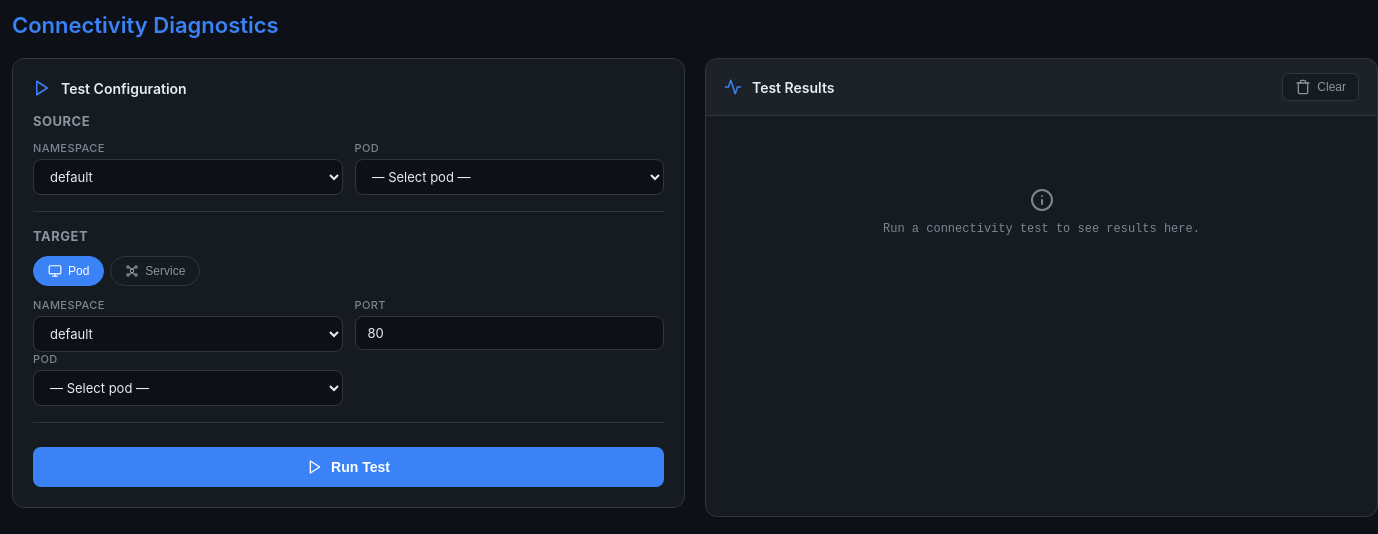
DiagnosticsPanel › shows validation error for invalid port
// Select source
Step 1. Select "production" in the 1st dropdown → (188, 177), box [33,159,342,195]
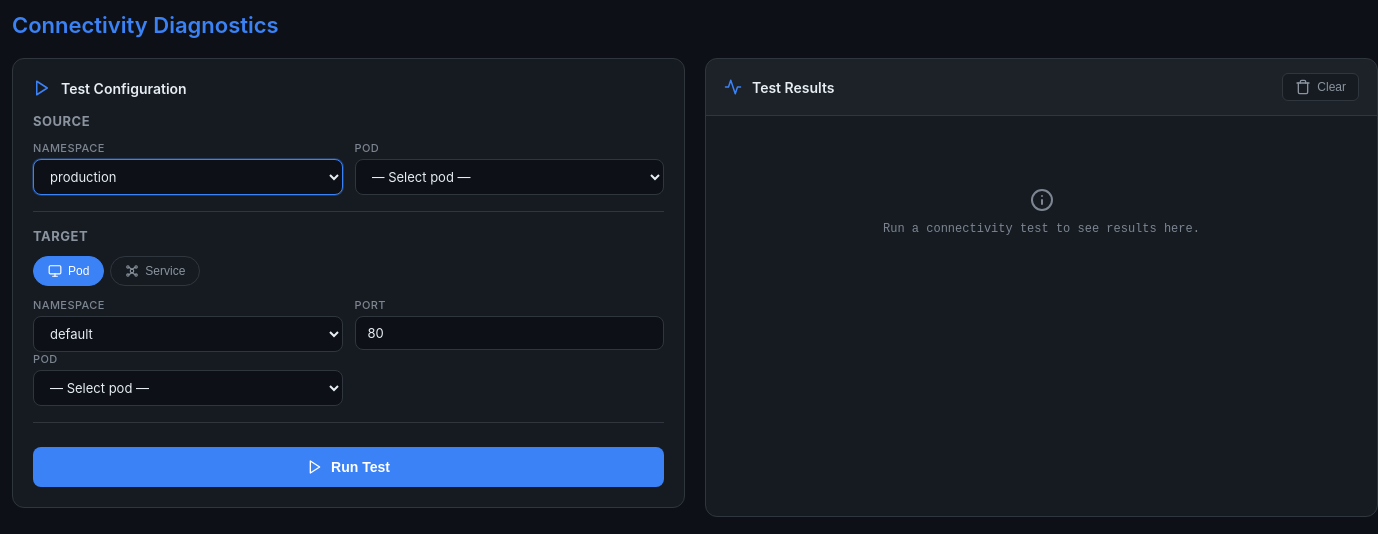
Step 2. Select "api-1" in the 2nd dropdown → (509, 177), box [354,159,664,195]
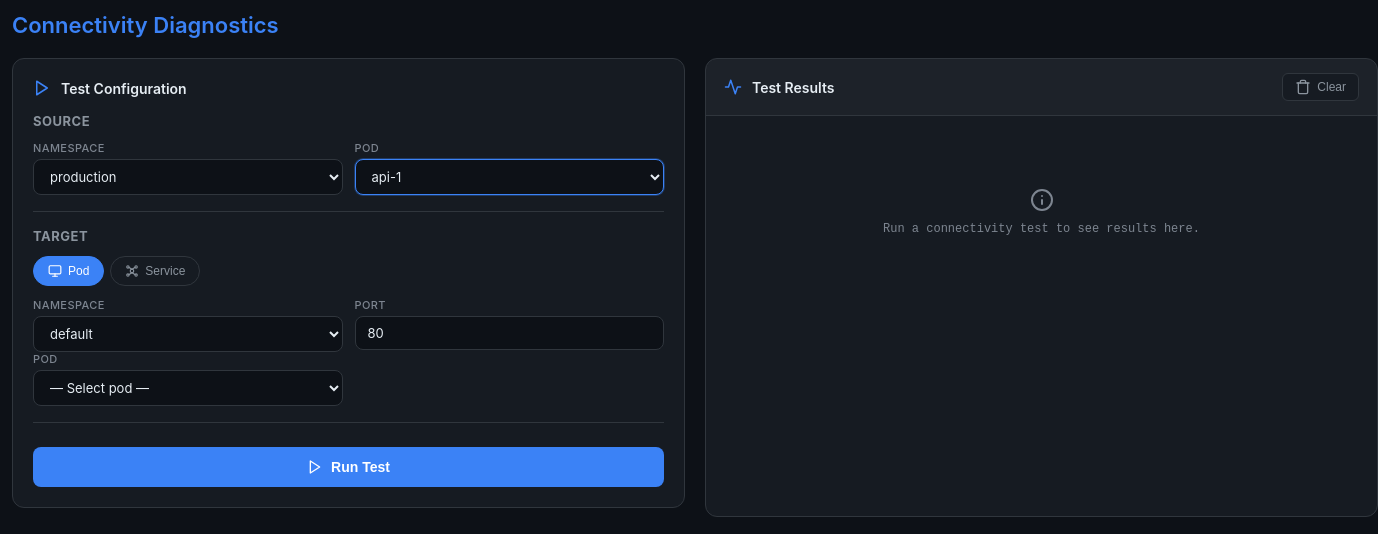
// Select target pod (needed so port validation is reached)
Step 3. Select "default" in the dropdown below "Port" → (188, 334), box [33,316,342,352]
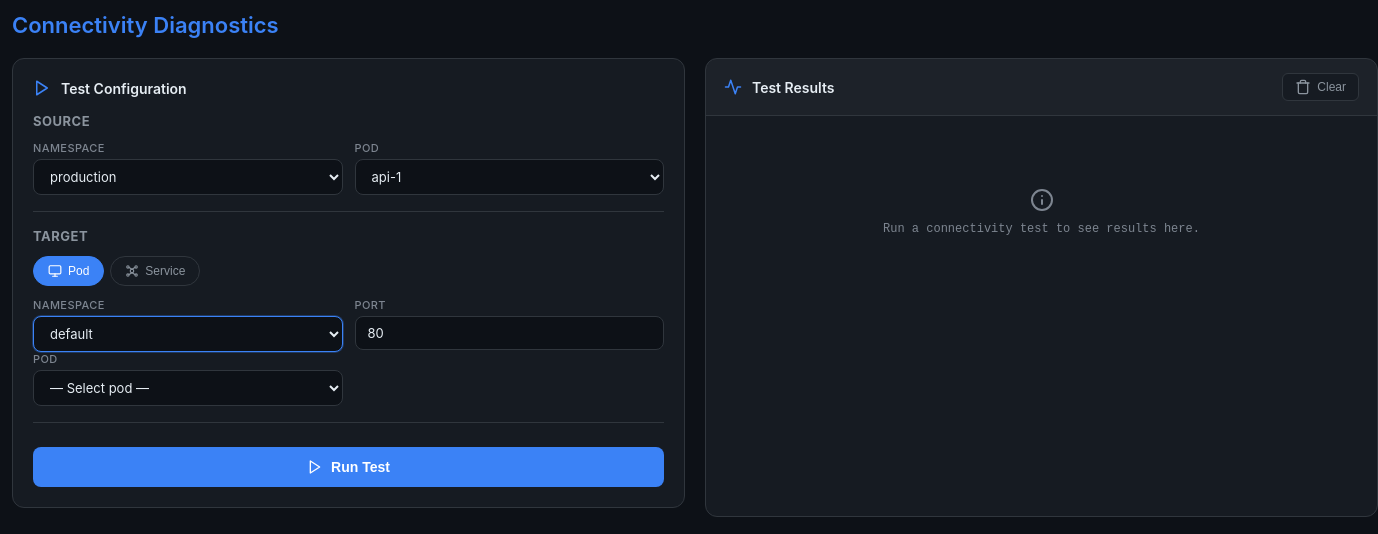
Step 4. Select "web-1" in the 4th dropdown → (188, 388), box [33,370,342,406]
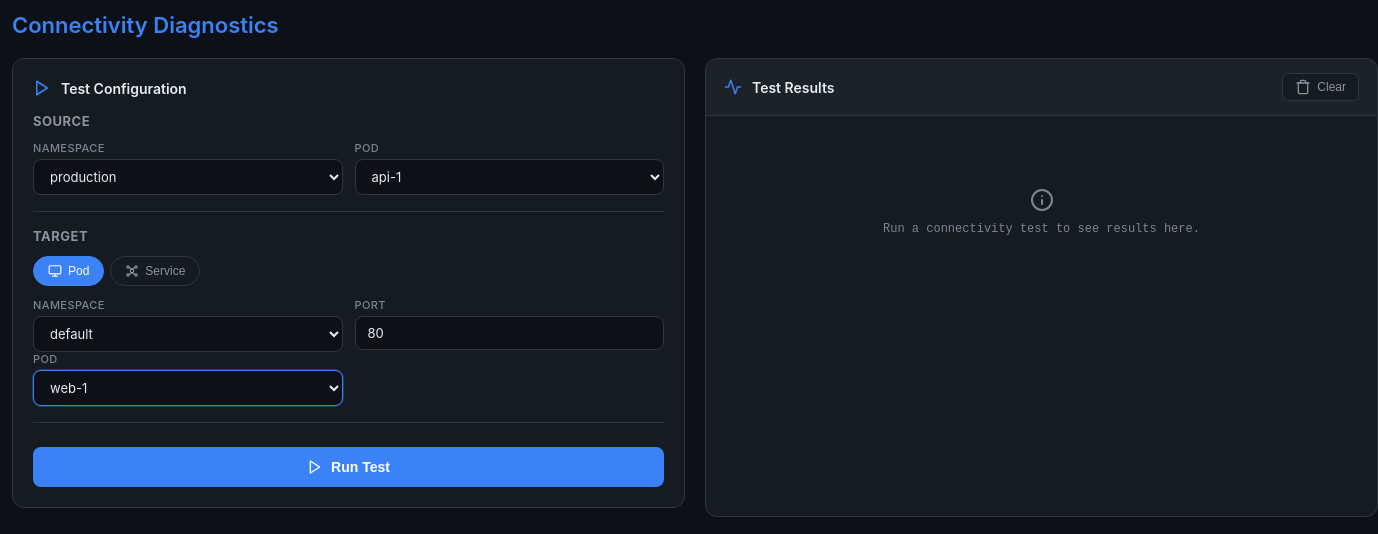
// Set invalid port via fireEvent.change (userEvent.type is unreliable on number inputs in jsdom)
Step 5. Replace the text in the number field showing "80" with "99999" → (509, 333), box [354,316,664,350]
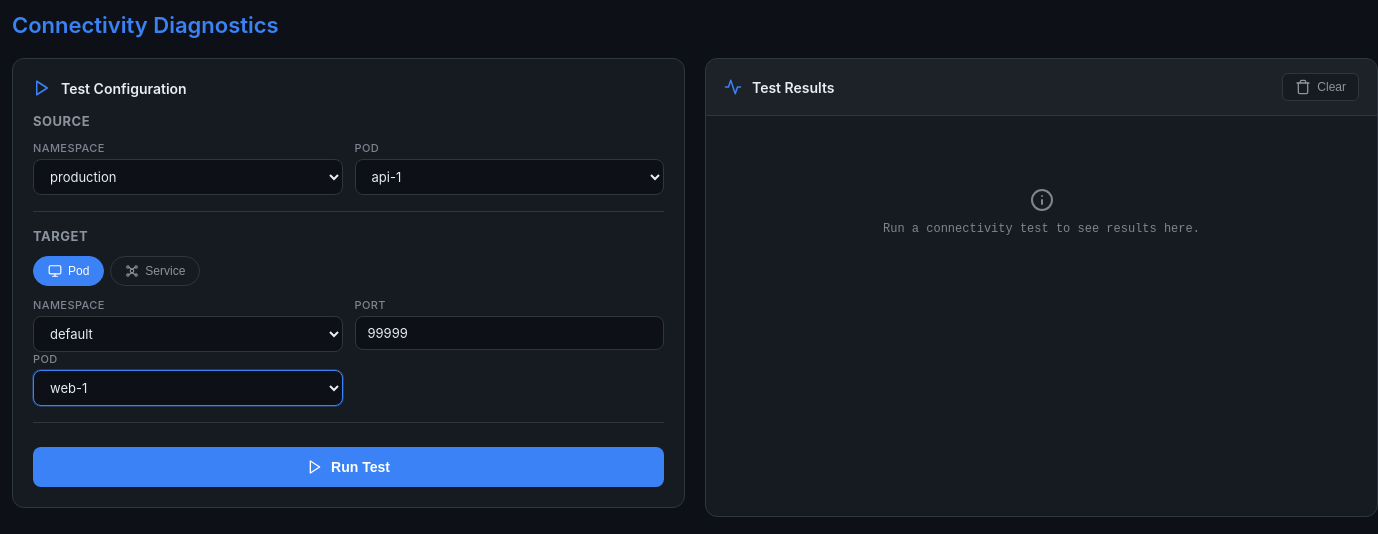
Step 6. Click the button "Run Test" → (348, 467), box [33,447,664,487]
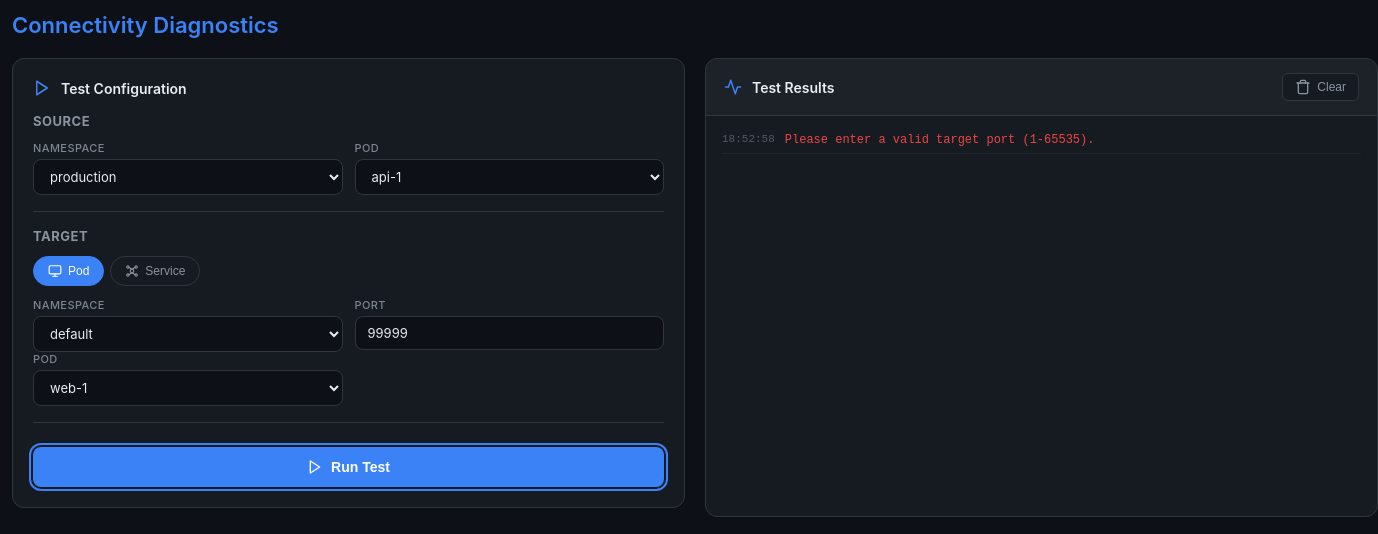
Expected: the text "Please enter a valid target port (1-65535)." is shown, [785,131,1094,150]
